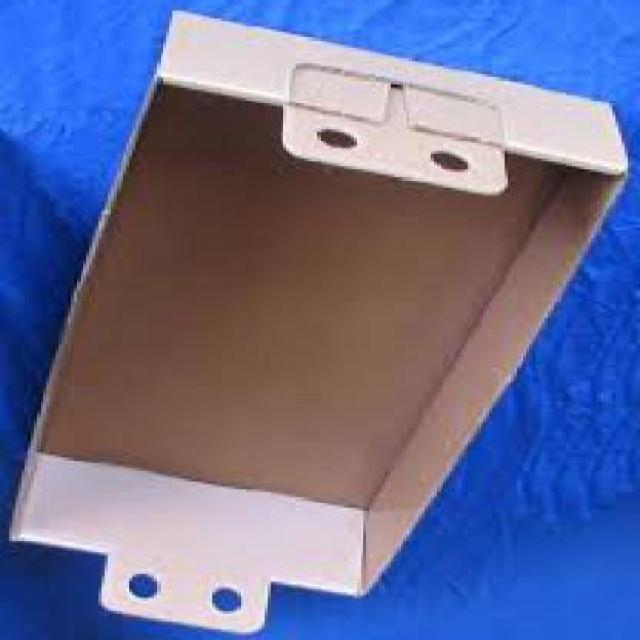CARDBOARD: (0, 16, 625, 635)
